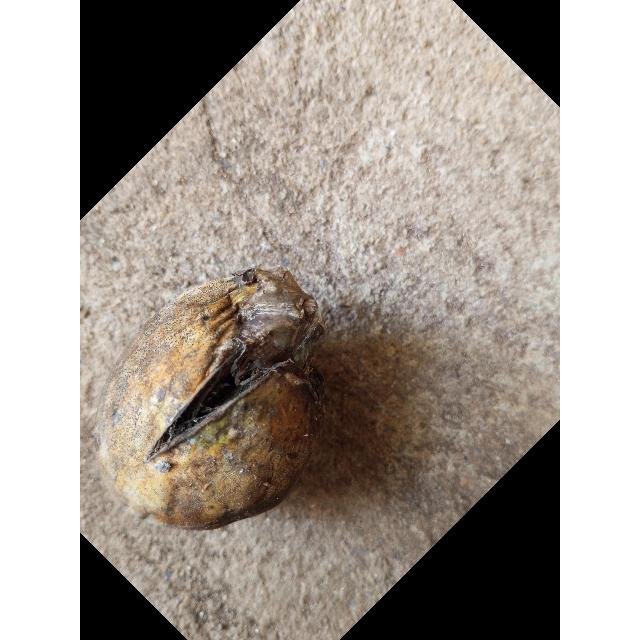damaged: (106, 267, 329, 530)
